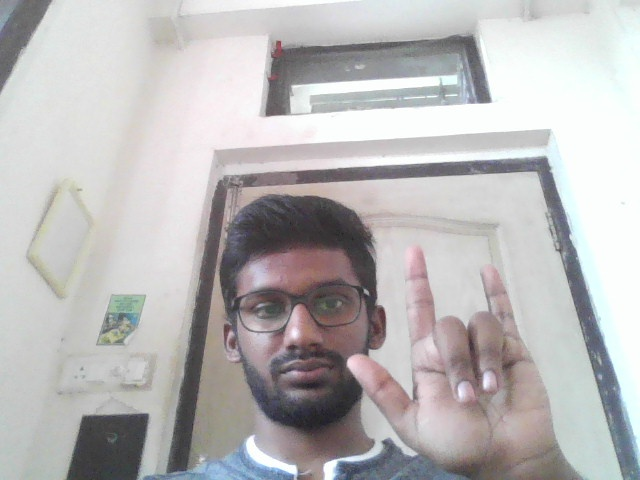I Love You: (344, 243, 571, 466)
